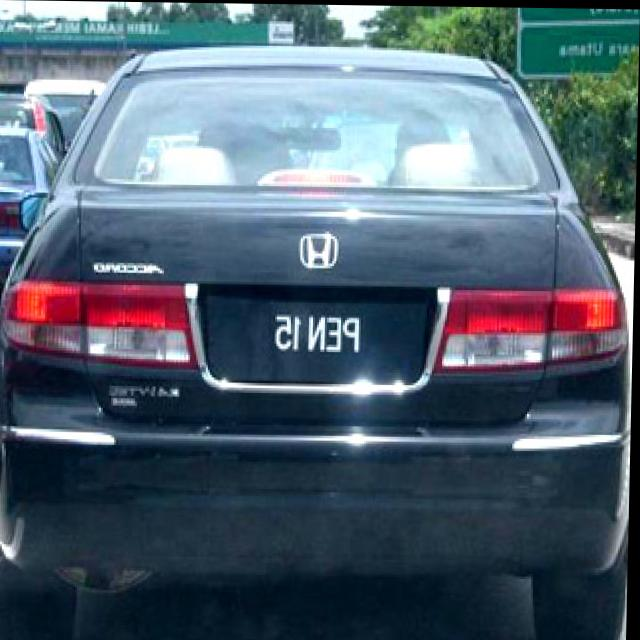licence: (205, 281, 435, 382)
